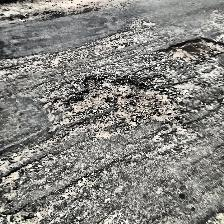pothole: (52, 72, 174, 124), (157, 36, 223, 62)
